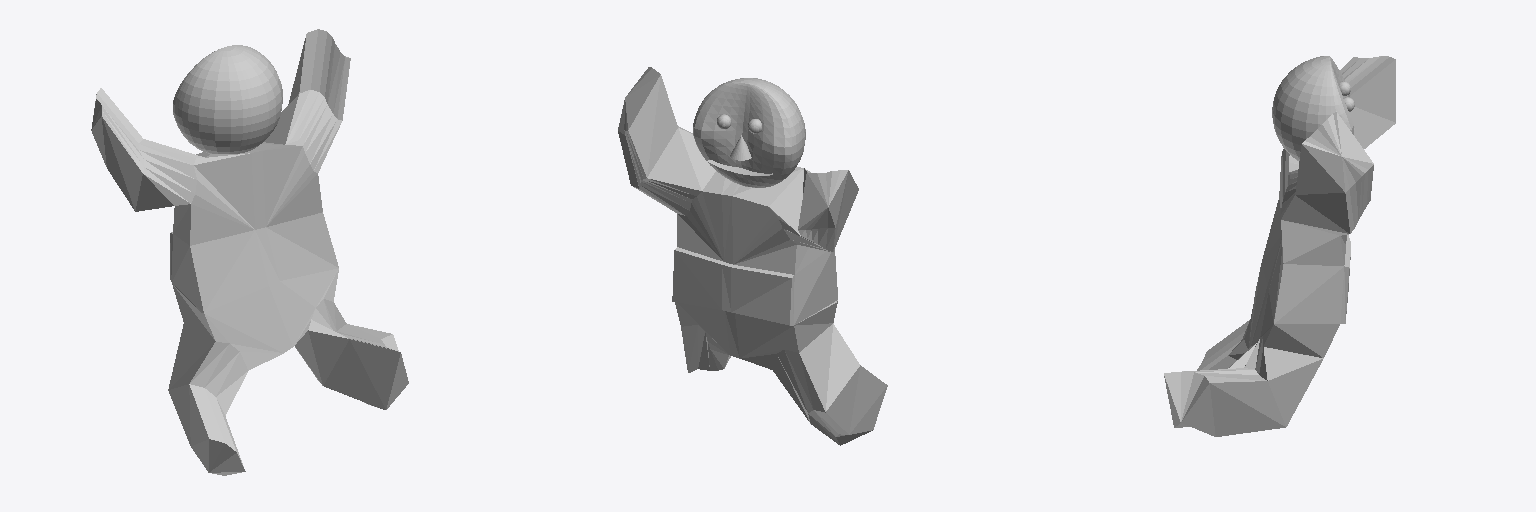
The model's file is manjump_000019.obj.
3 renders of one model, left to right at view 1: azimuth 30°, elevation 25°; view 2: azimuth 150°, elevation 25°; view 3: azimuth 270°, elevation 25°, orthographic.
Visible parts, largest first — view 1: Cube; view 2: Cube; view 3: Cube.
Boxes of the visible parts, x1=… form: Cube: x1=91, y1=29, x2=408, y2=475; Cube: x1=618, y1=67, x2=887, y2=445; Cube: x1=1164, y1=56, x2=1395, y2=436.
Bounding box in the file's own units: 78.05 × 122 × 66.93.